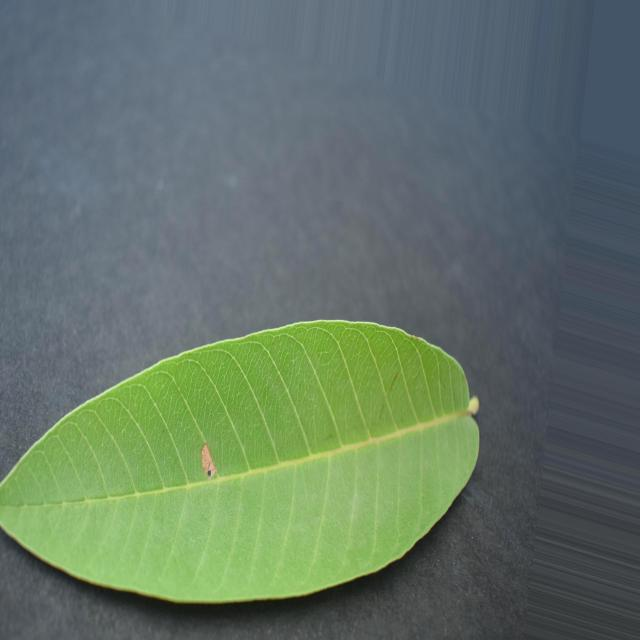Dot: (0, 321, 479, 602)
